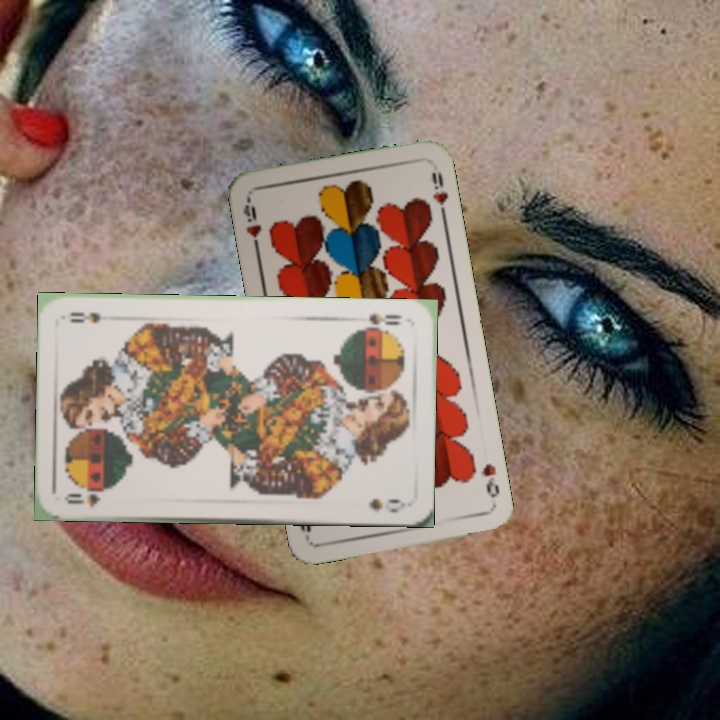H9: (239, 195, 264, 254), (477, 460, 502, 500)
SO: (60, 489, 103, 510), (365, 310, 404, 327)
